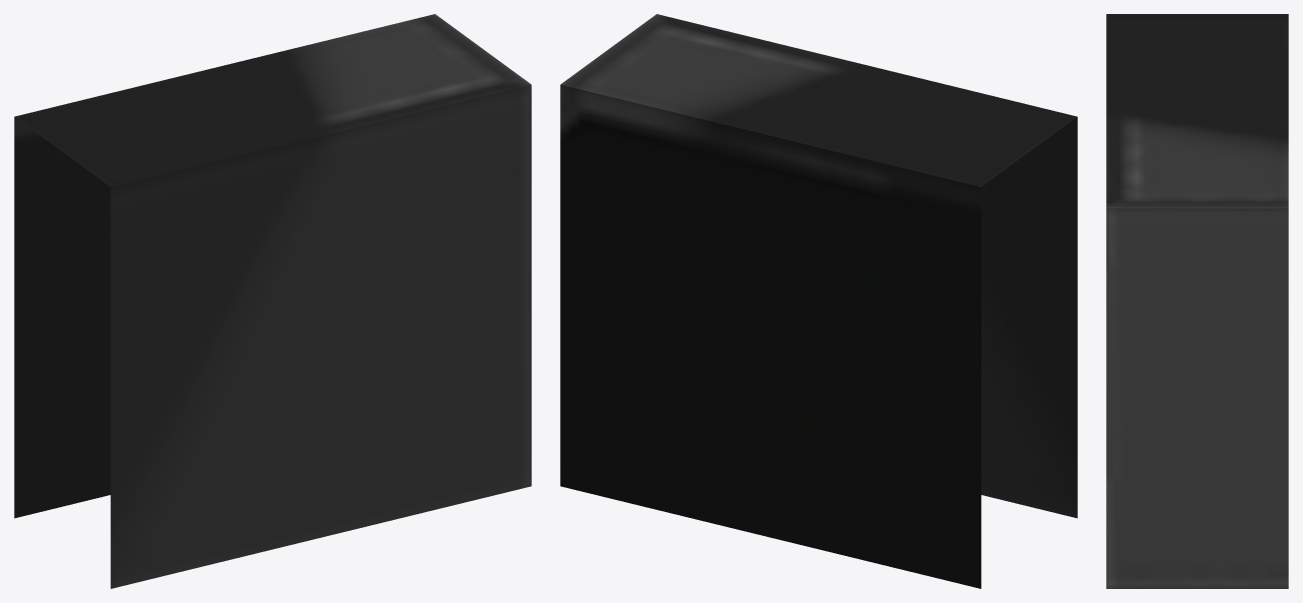
The model's file is Tx_props_research_cpu.fbx.
The picture shows the model from 3 angles, left to right: view 1: azimuth 30°, elevation 25°; view 2: azimuth 150°, elevation 25°; view 3: azimuth 270°, elevation 25°; orthographic projection. The views are drawn at different scales.
Parts seen in each view (by area): view 1: Tx_props_research_cpu; view 2: Tx_props_research_cpu; view 3: Tx_props_research_cpu.
Boxes of the visible parts, x1,y1,x2,y2 form: Tx_props_research_cpu: [14, 14, 531, 588]; Tx_props_research_cpu: [560, 14, 1077, 588]; Tx_props_research_cpu: [1106, 14, 1288, 588].
Bounding box in the file's own units: 2.99 × 2.73 × 1.19.
